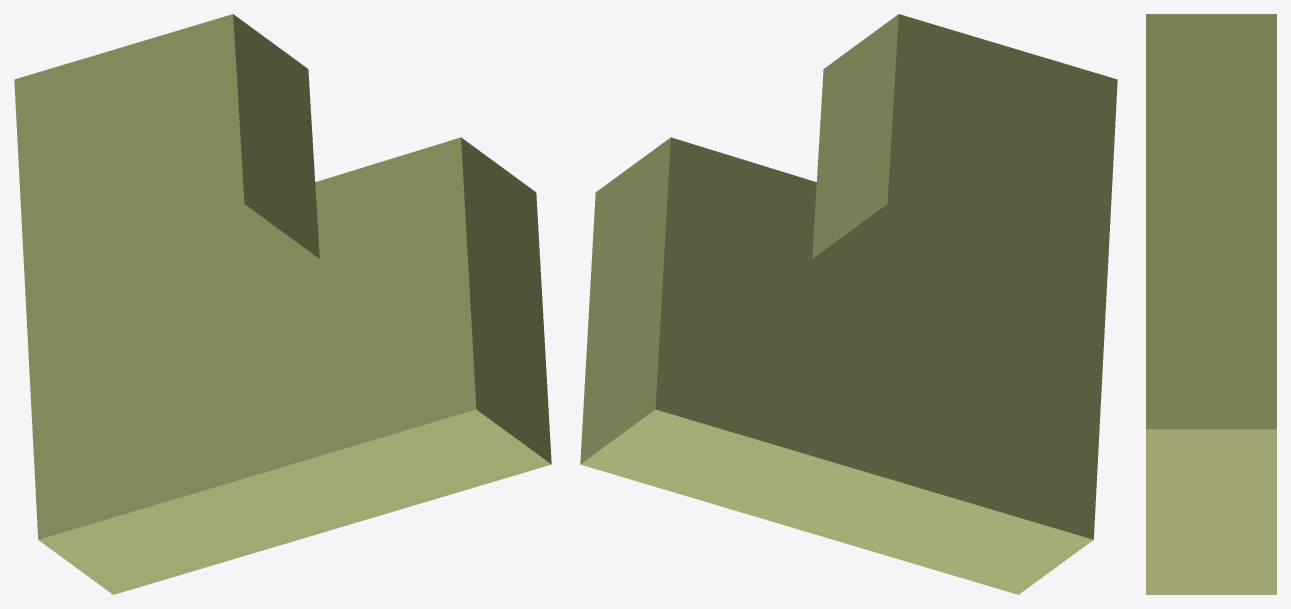
The picture shows the model from 3 angles, left to right: view 1: azimuth 30°, elevation 25°; view 2: azimuth 150°, elevation 25°; view 3: azimuth 270°, elevation 25°; orthographic projection. The views are drawn at different scales.
Parts seen in each view (by area): view 1: 0_0_3_2_1_3_0; view 2: 0_0_3_2_1_3_0; view 3: 0_0_3_2_1_3_0.
Boxes of the visible parts, bbox=[...] form: 0_0_3_2_1_3_0: bbox=[14, 14, 551, 594]; 0_0_3_2_1_3_0: bbox=[580, 14, 1117, 594]; 0_0_3_2_1_3_0: bbox=[1146, 14, 1276, 594].
Bounding box in the file's own units: 31.9 × 31.55 × 9.
